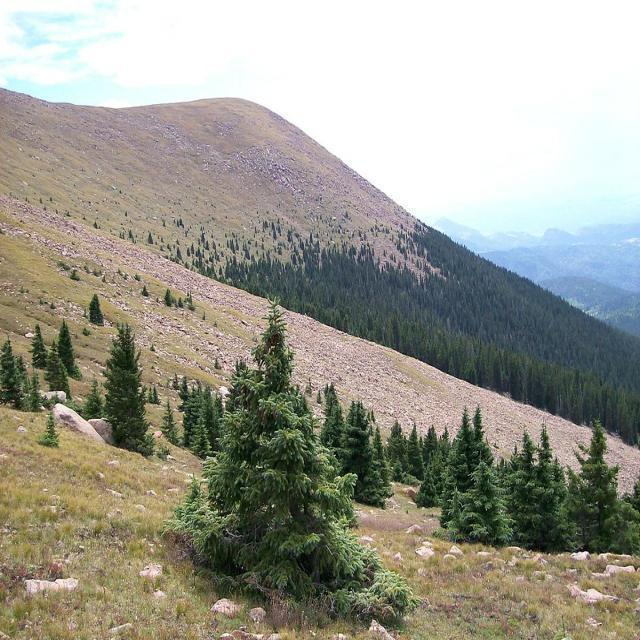tree: (186, 292, 410, 620), (566, 413, 624, 547), (518, 421, 574, 554), (105, 324, 159, 461), (448, 462, 518, 546), (341, 398, 391, 509), (444, 400, 492, 484), (0, 331, 26, 411), (382, 414, 414, 478), (414, 449, 446, 511), (44, 337, 72, 399), (58, 316, 82, 386), (319, 381, 343, 451), (34, 320, 50, 374), (90, 286, 106, 326)
